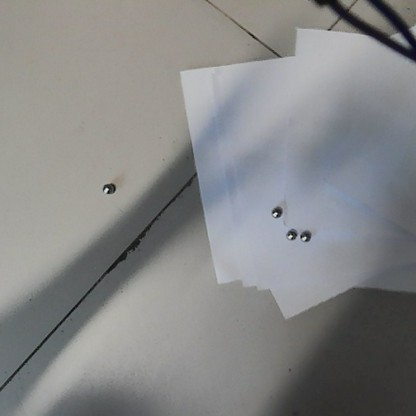ironball: (296, 225, 313, 243), (282, 226, 297, 243), (101, 180, 116, 196), (269, 203, 282, 218)
